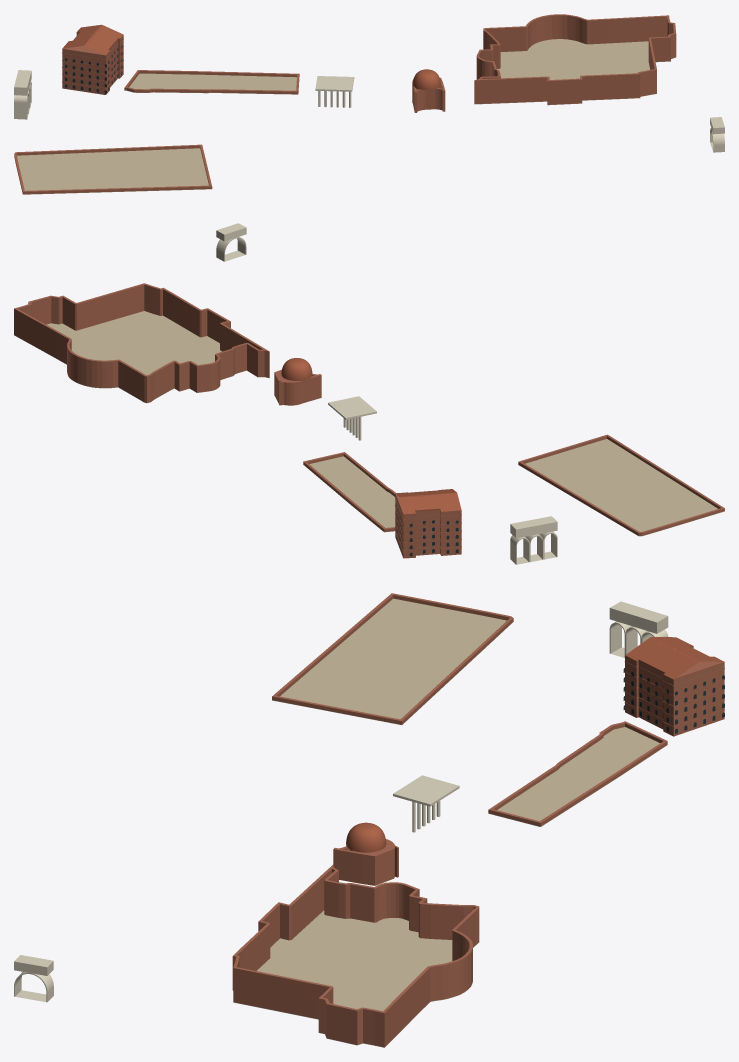
File: roman-forum.glb
3 views of the same model, one above another, from view 1: azimuth 30°, elevation 25°; view 2: azimuth 150°, elevation 25°; view 3: azimuth 270°, elevation 25° (orthographic). The views are drawn at different scales.
Visible parts, largest first — view 1: archaeological-extent, mapped-ruin-perimeters, standing-curia, roof, romulus-rotunda, triumphal-attic, antoninus-entablature, romulus-dome, facade-windows, triumphal-openings, storey-bands, antoninus-standing-columns; view 2: archaeological-extent, mapped-ruin-perimeters, standing-curia, roof, romulus-rotunda, triumphal-attic, triumphal-openings, antoninus-entablature, romulus-dome; view 3: archaeological-extent, mapped-ruin-perimeters, standing-curia, romulus-rotunda, roof, triumphal-attic, antoninus-entablature, triumphal-openings, romulus-dome, facade-windows, storey-bands.
Boxes of the visible parts, x1,y1,x2,y2 form: archaeological-extent: (17,39,675,194); mapped-ruin-perimeters: (14,14,676,194); standing-curia: (62,32,123,94); roof: (62,24,123,55); romulus-rotunda: (412,77,445,112); triumphal-attic: (14,70,724,134); antoninus-entablature: (315,76,354,91); romulus-dome: (412,69,440,90); facade-windows: (65,46,122,93); triumphal-openings: (14,82,31,119); storey-bands: (62,39,123,88); antoninus-standing-columns: (318,91,351,107); archaeological-extent: (14,311,724,536); mapped-ruin-perimeters: (14,283,724,535); standing-curia: (395,493,461,558); roof: (395,489,461,514); romulus-rotunda: (274,369,321,405); triumphal-attic: (216,223,557,538); triumphal-openings: (510,531,557,564); antoninus-entablature: (328,396,376,419); romulus-dome: (281,358,312,380); archaeological-extent: (233,598,667,1047); mapped-ruin-perimeters: (232,593,667,1047); standing-curia: (625,646,724,736); romulus-rotunda: (333,839,398,885); roof: (625,637,724,679); triumphal-attic: (14,601,668,975); antoninus-entablature: (393,775,459,806); triumphal-openings: (609,621,668,657); romulus-dome: (346,822,386,852); facade-windows: (623,668,724,733); storey-bands: (624,661,724,727).
Size of the model in its own units: 16 by 1.09 by 10.67.
